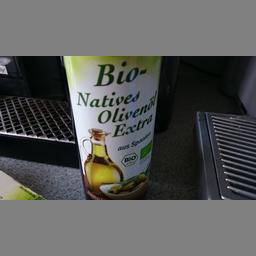oil: (60, 54, 162, 196)
